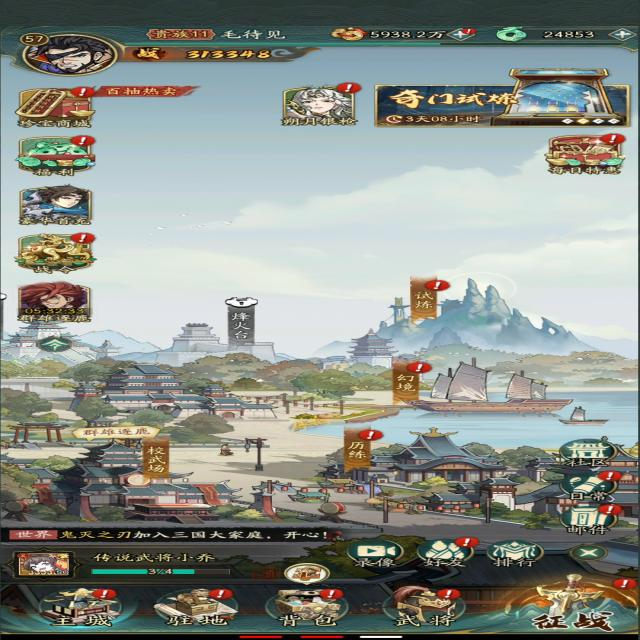hint-reddot: (590, 466, 626, 484), (422, 277, 460, 294), (453, 534, 488, 552), (352, 426, 388, 442), (203, 586, 238, 602), (330, 80, 362, 96), (68, 86, 104, 100), (314, 589, 350, 603), (68, 232, 100, 247), (90, 587, 121, 602), (597, 501, 627, 516), (408, 358, 433, 375), (434, 586, 464, 600), (600, 132, 627, 147), (66, 134, 96, 147), (614, 576, 640, 590), (456, 27, 484, 37)
navigation-DailyDiscount: (535, 131, 630, 179)
navigation-bag: (261, 583, 358, 629)
navigation-community: (548, 438, 618, 468)
navigation-fenghuotai-off: (219, 292, 265, 352)
navigation-fight: (493, 574, 640, 637)
navigation-friends: (410, 534, 479, 571)
navigation-hero: (367, 582, 475, 632)
navigation-huanjing-on: (387, 356, 428, 408)
navigation-jiaowuchang-on: (134, 434, 176, 482)
navigation-lilian-on: (339, 423, 380, 476)
navigation-mail: (553, 503, 621, 537)
navigation-main: (14, 584, 140, 634)
navigation-rank: (484, 536, 552, 572)
navigation-role: (19, 28, 124, 82)
navigation-shilian-on: (403, 270, 451, 326)
navigation-station-on: (148, 584, 251, 632)
navigation-treasureMall: (13, 84, 99, 130)
navigation-welfare: (15, 134, 98, 177)
operation-close: (567, 544, 609, 562)
